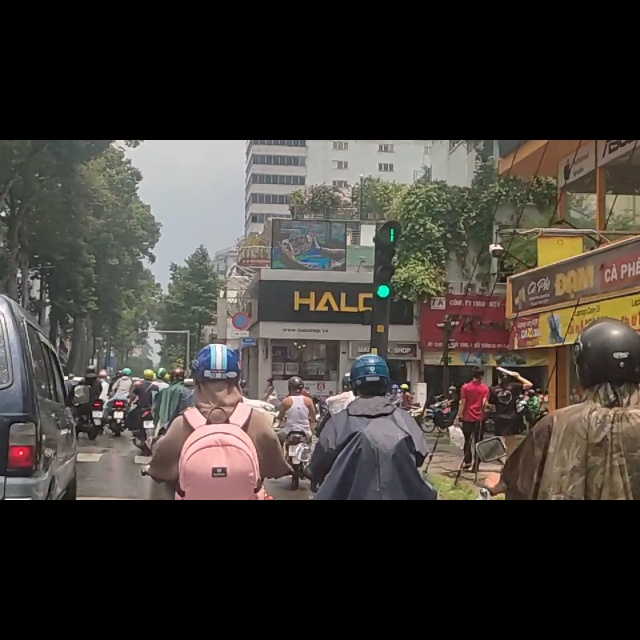bien_cam: (231, 305, 249, 339)
